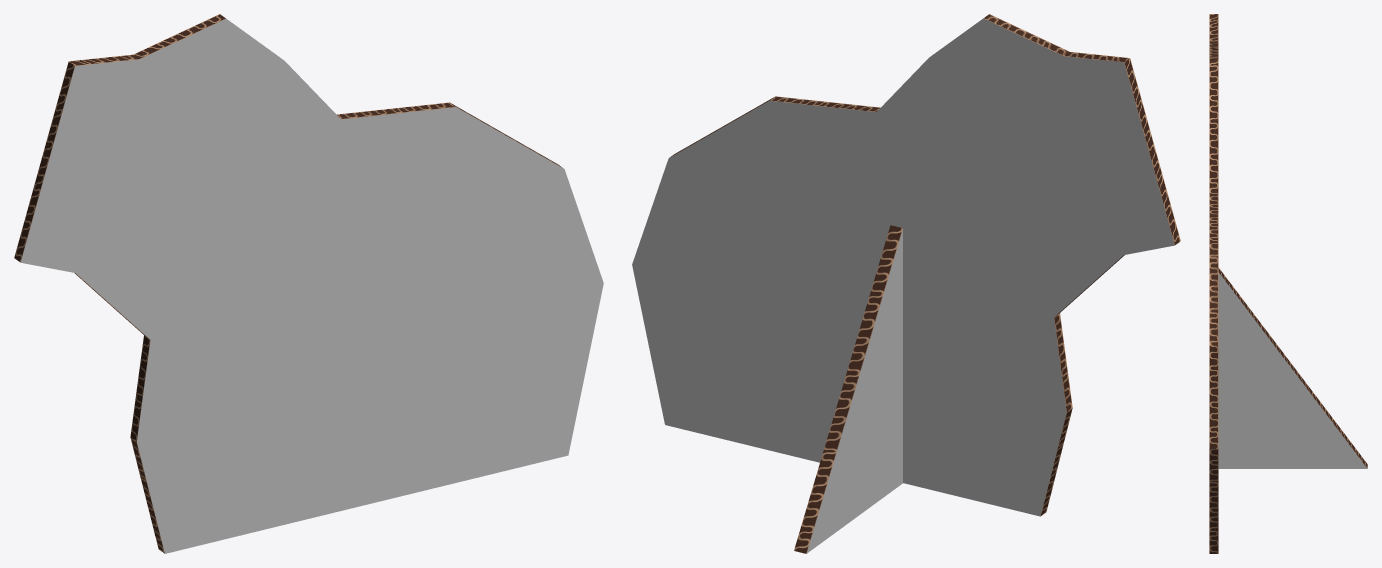
The model's file is Cactus_1.fbx.
The picture shows the model from 3 angles, left to right: view 1: azimuth 30°, elevation 25°; view 2: azimuth 150°, elevation 25°; view 3: azimuth 270°, elevation 25°; orthographic projection. The views are drawn at different scales.
Visible parts, largest first — view 1: Cactus 1_LOD0; view 2: Cactus 1_LOD0; view 3: Cactus 1_LOD0.
Part boxes in pixels (x1,y1,x2,y2): Cactus 1_LOD0: (14,14,603,553); Cactus 1_LOD0: (632,14,1180,553); Cactus 1_LOD0: (1209,14,1367,553).
Bounding box in the file's own units: 320 × 273 × 105.
